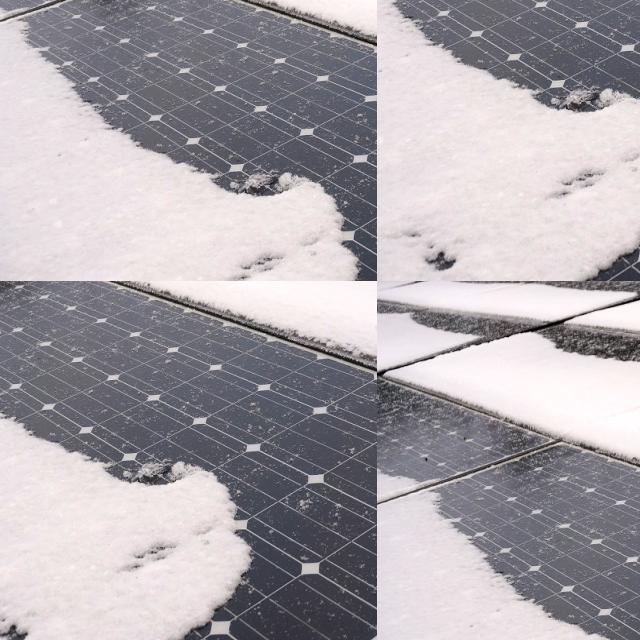bird: (0, 281, 99, 440)
dust: (377, 63, 564, 149), (377, 0, 502, 49), (531, 26, 605, 60), (377, 0, 440, 23), (377, 0, 422, 22)
hotspot: (57, 0, 229, 84)
panel: (387, 468, 578, 640), (429, 502, 531, 632), (420, 370, 548, 450), (560, 396, 640, 504), (524, 303, 640, 373), (410, 292, 518, 362), (549, 605, 640, 640), (377, 445, 416, 525), (377, 327, 412, 403), (397, 281, 459, 304), (494, 281, 573, 294), (377, 281, 400, 319), (570, 281, 622, 296)
